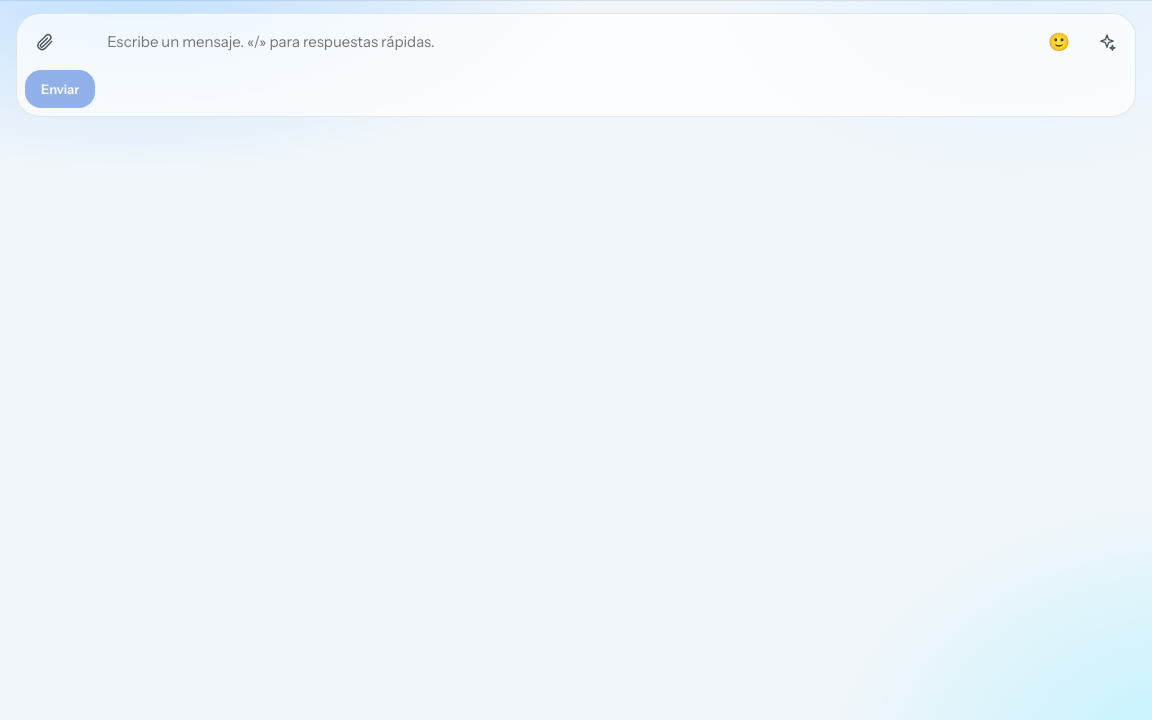
it: Compositor › si la IA falla, lo dice y no toca lo que había escrito
In the text box labelled "mensaje": [567, 42] box [103,23,1031,62], type "mi texto"
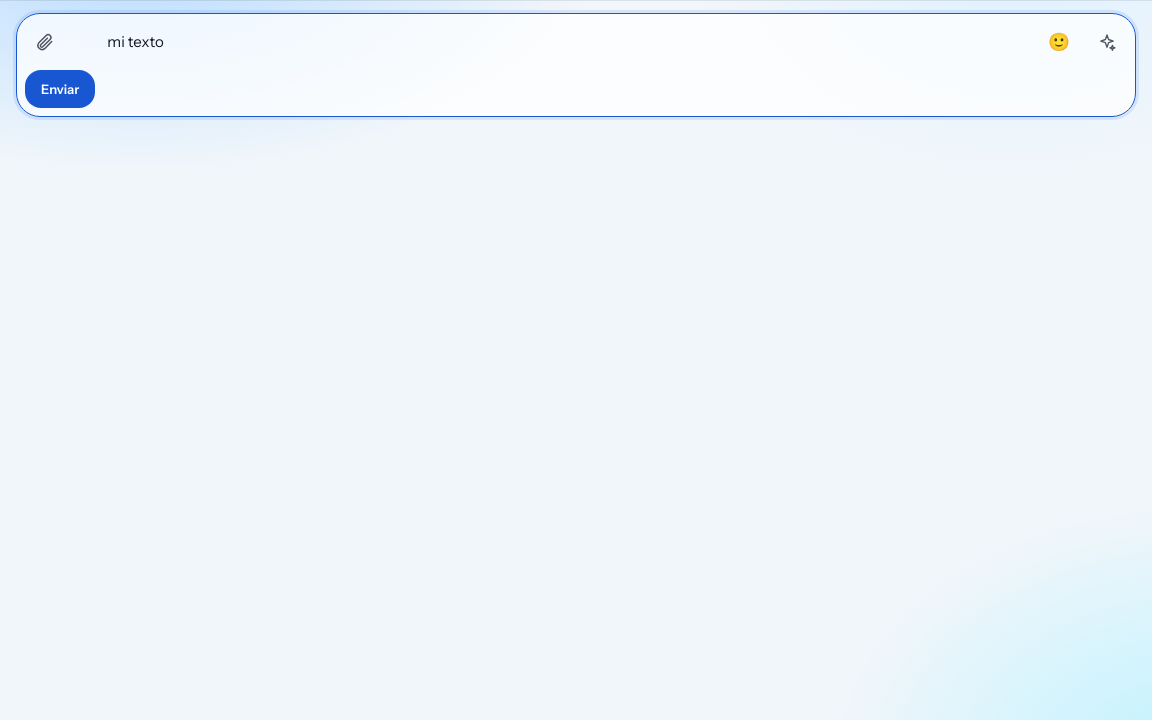
Click the button named "Sugerir respuesta con IA": [1107, 42] box [1087,22,1127,62]
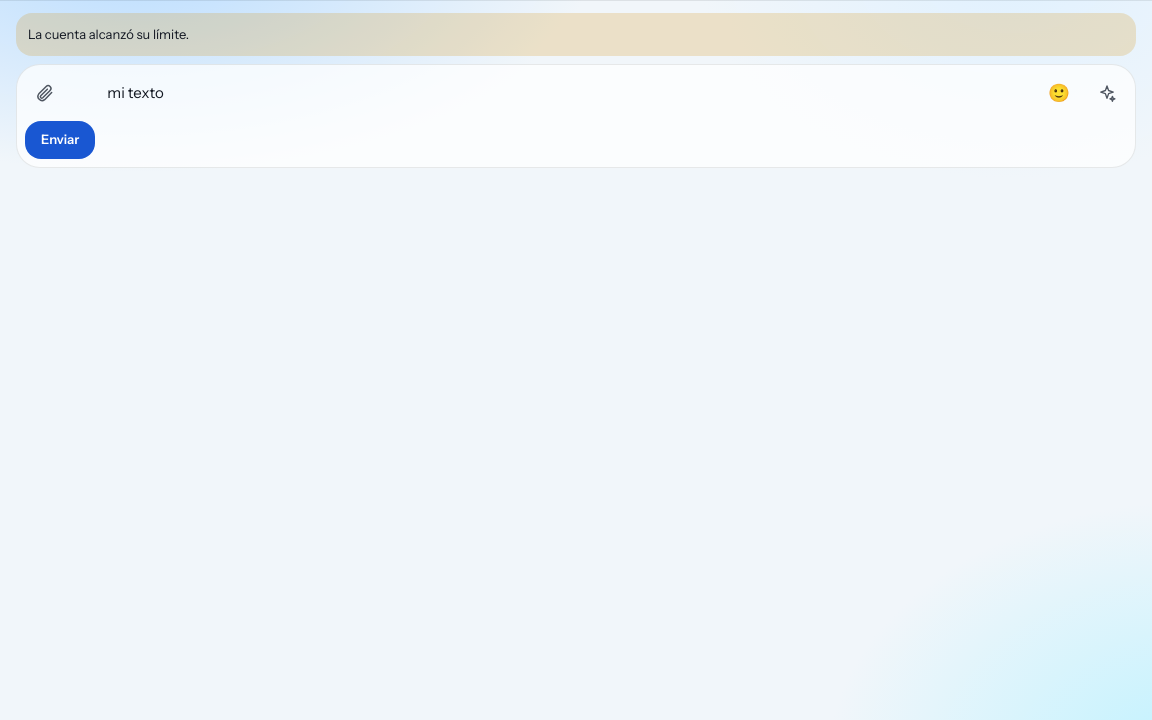
Expected: the message shows "alcanzó su límite", [28,26,189,42]
